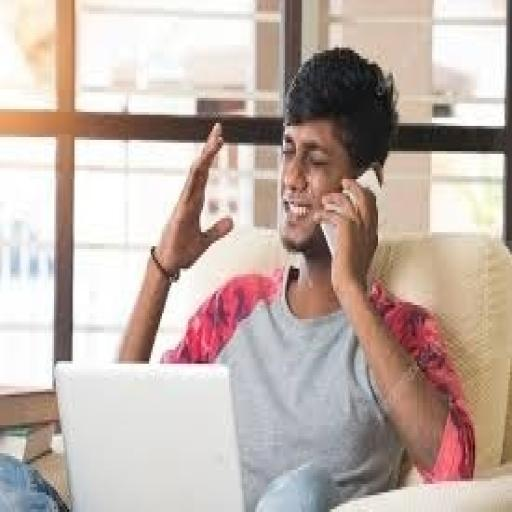using_laptop: (52, 356, 246, 510)
